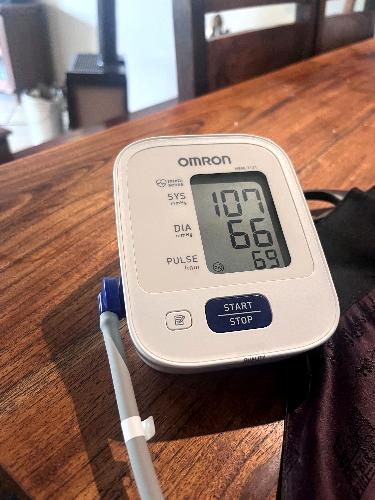bpm: (189, 158, 293, 283)
